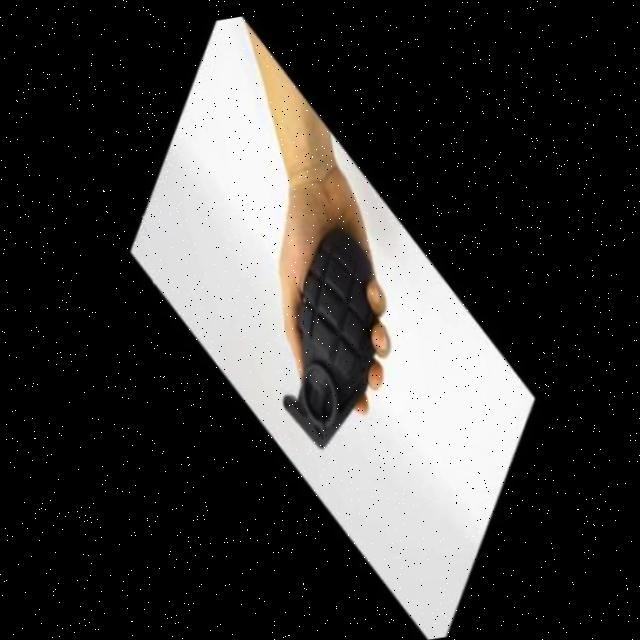grenade: (238, 217, 415, 462)
